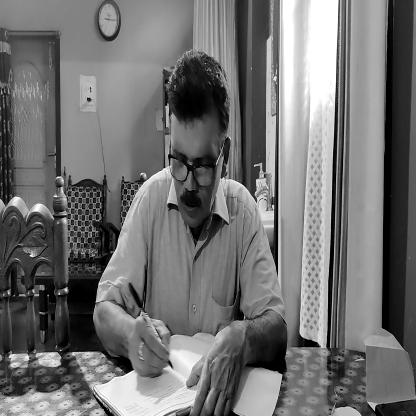Normal: (161, 50, 227, 228)
